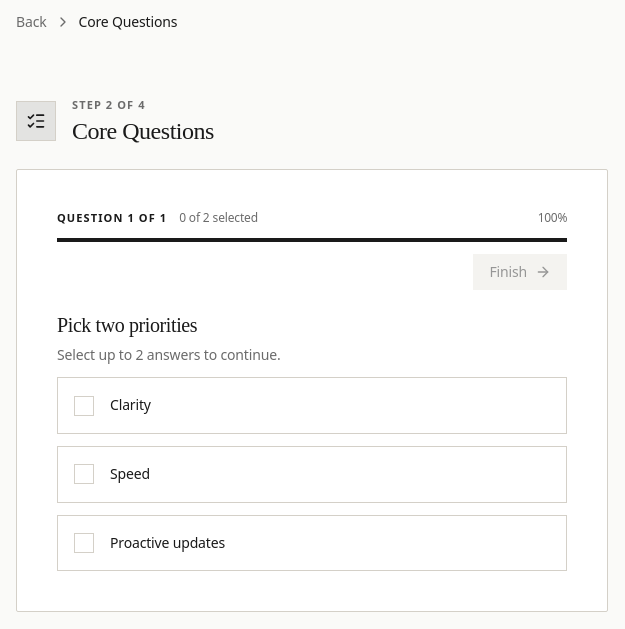
Scenario: clicking selected multi-select option deselects it
Step 1. Click the button "Clarity" → (130,405), box left=57, top=377, right=567, bottom=434
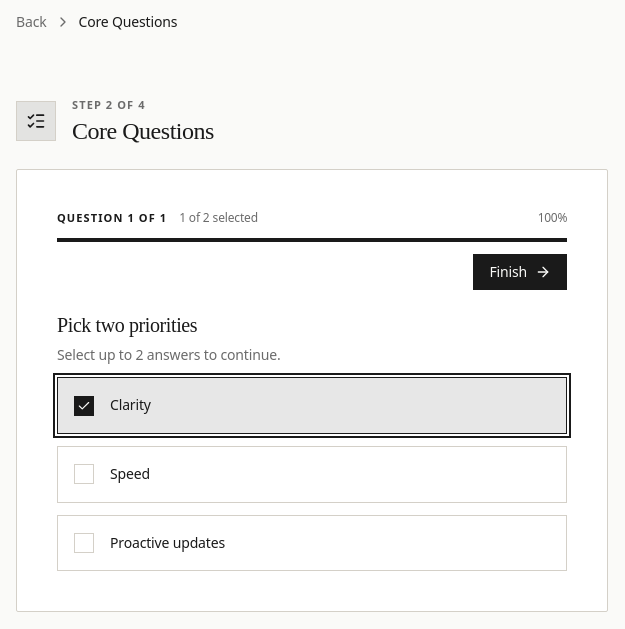
Now the text "1 of 2 selected" is shown, box left=179, top=210, right=258, bottom=226
Step 2. Click the button "Clarity" → (130,405), box left=57, top=377, right=567, bottom=434
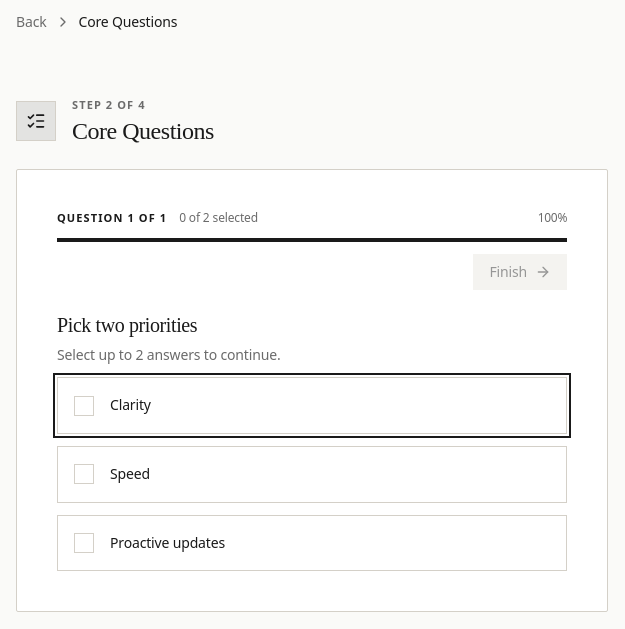
Expected: the button "Finish" is disabled, left=474, top=254, right=567, bottom=290
Now the text "0 of 2 selected" is shown, box left=179, top=210, right=258, bottom=226
